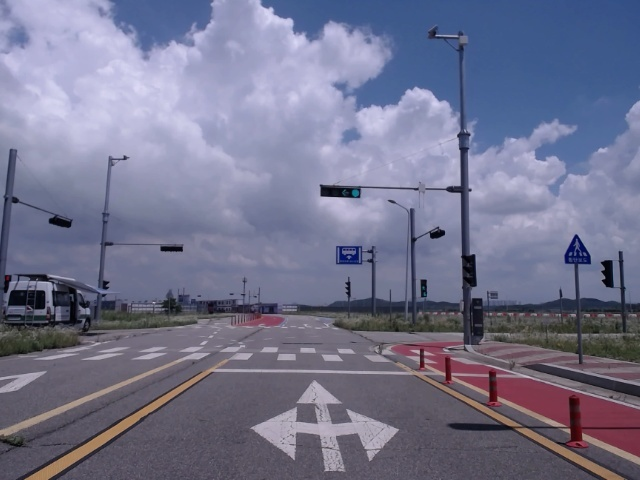all_green_4: (320, 184, 363, 198)
